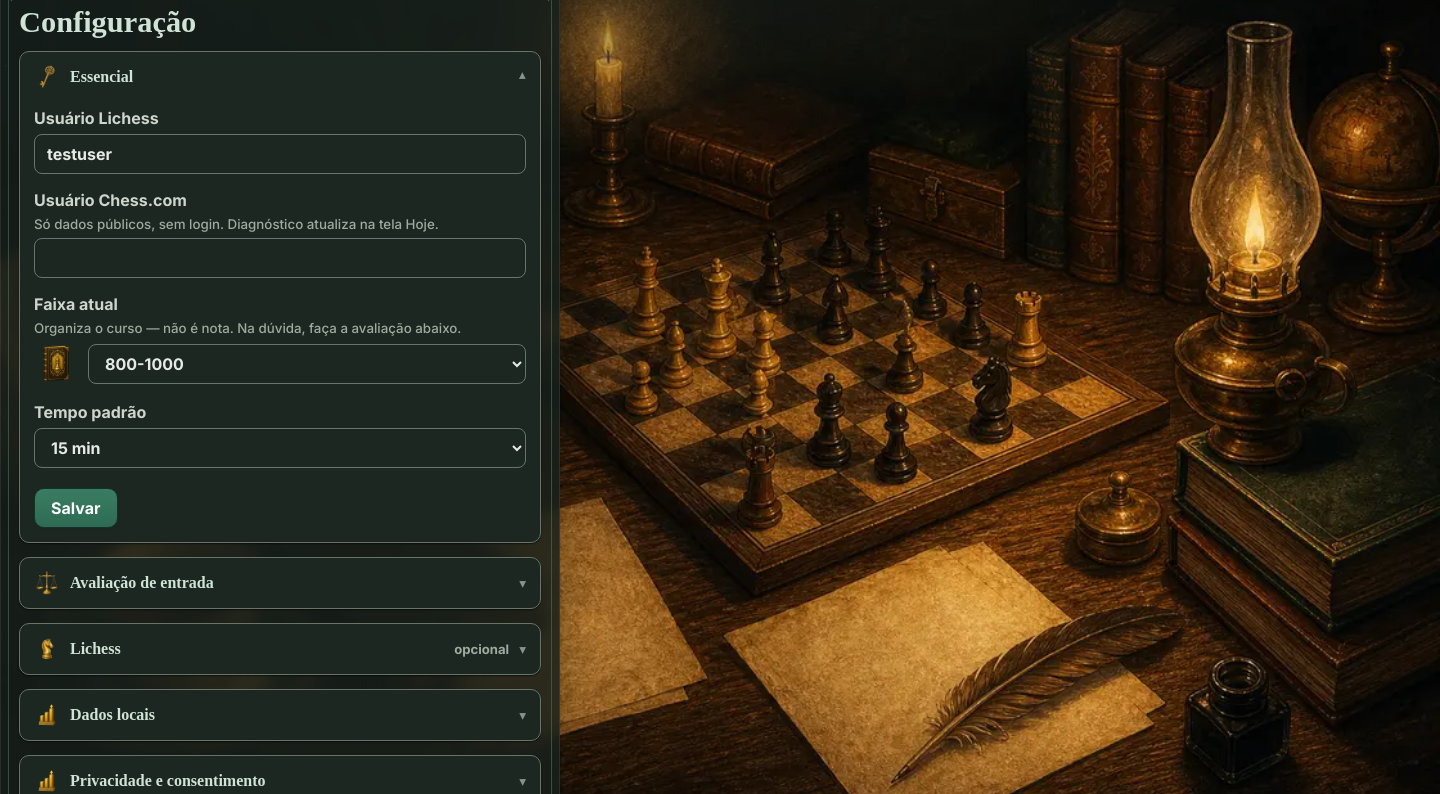
Test: Config — Lichess OAuth › shows "Conectar Lichess" when no token is present
The width and height of the screenshot is (1440, 794).
Click the heading "Lichess opcional". click: (95, 649)
box: [34,636,509,662]
(page scrolled)
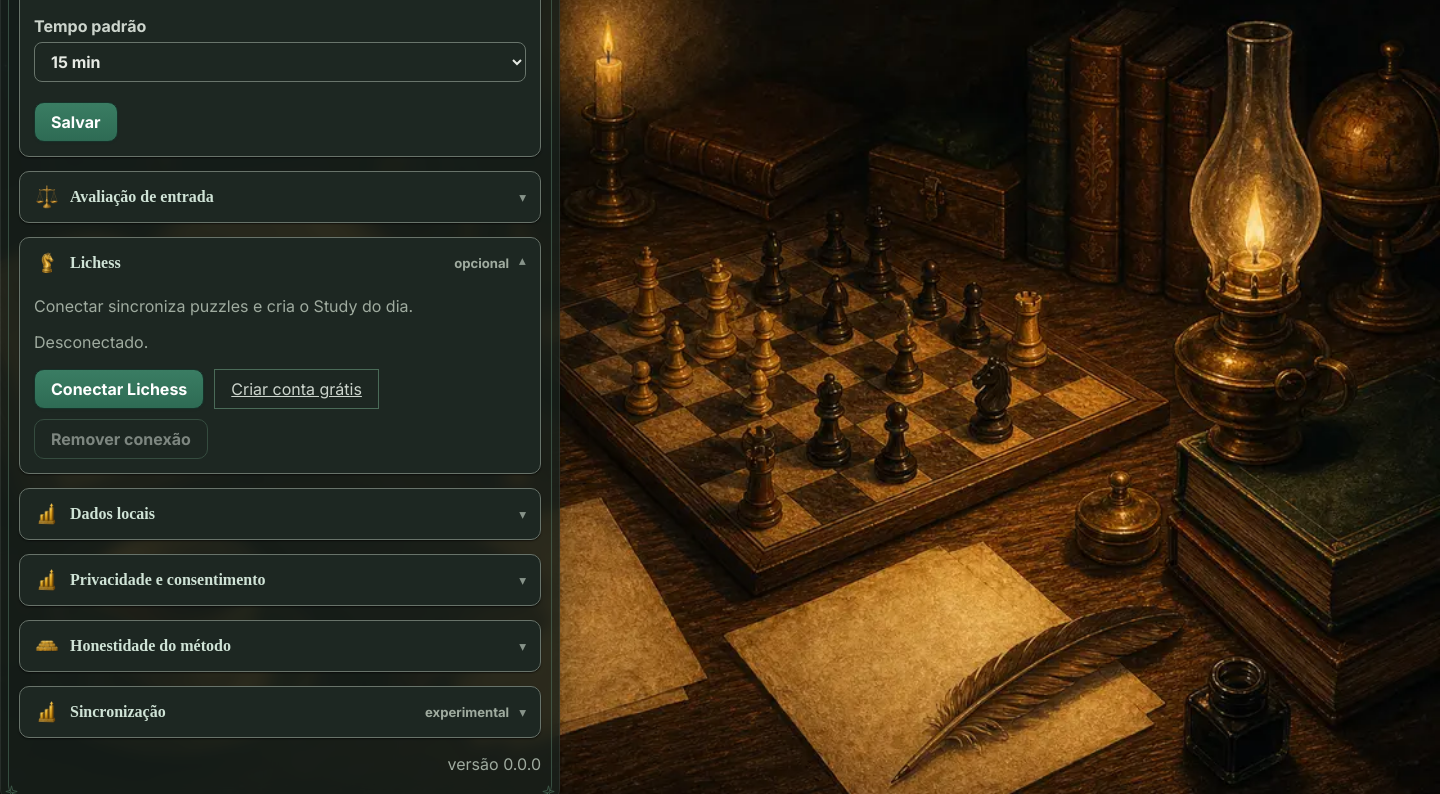
Now the button "Conectar Lichess" is shown, box [34,369,204,409]
